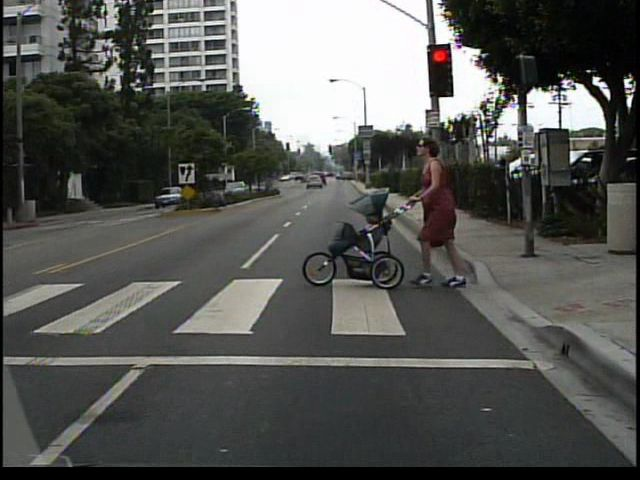person: (413, 133, 475, 287)
